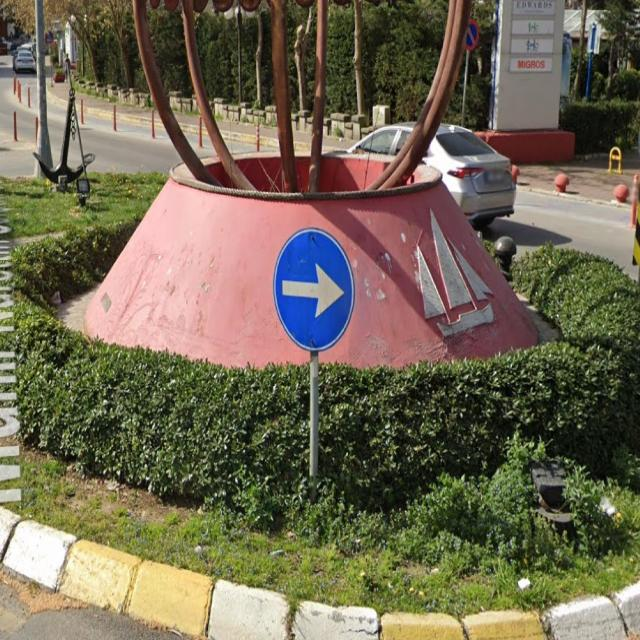Turn Right: (274, 227, 358, 351)
